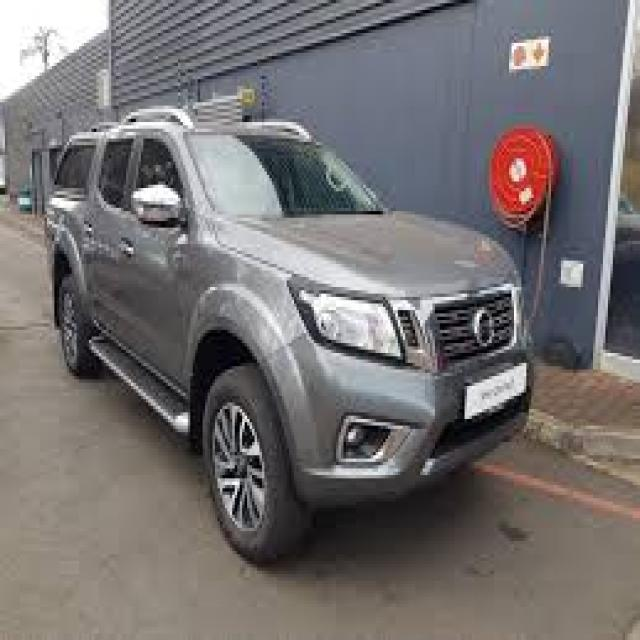Pickup Trucks: (49, 112, 536, 564)
